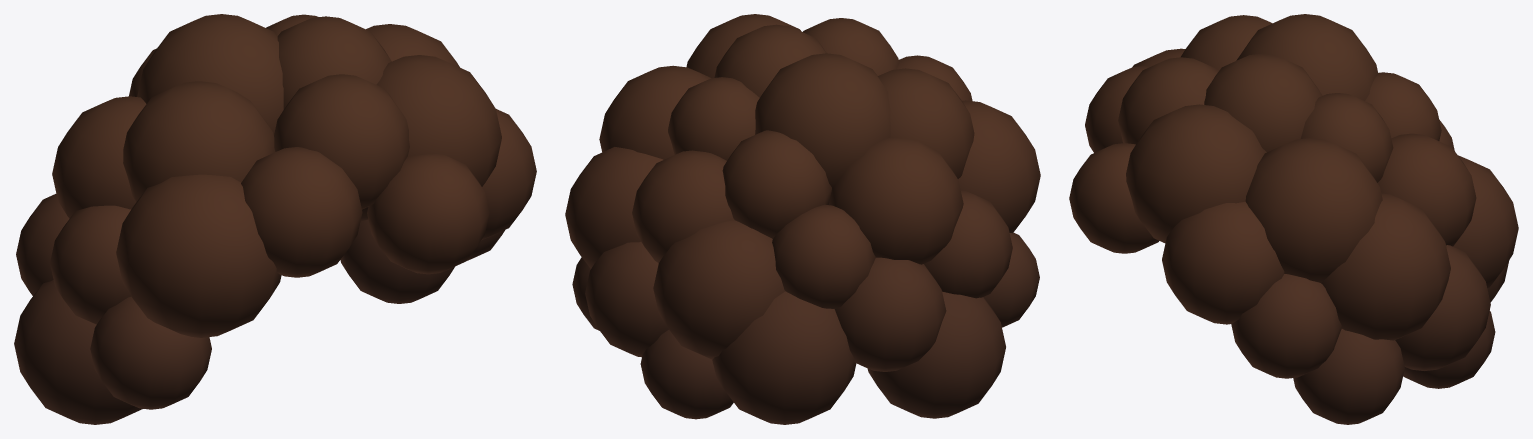
File: hair_curly.glb
The picture shows the model from 3 angles, left to right: view 1: azimuth 30°, elevation 25°; view 2: azimuth 150°, elevation 25°; view 3: azimuth 270°, elevation 25°; orthographic projection. The views are drawn at different scales.
Visible parts, largest first — view 1: Hair; view 2: Hair; view 3: Hair.
Boxes of the visible parts, box(x1,y1,x2,y2) form: Hair: box(14, 14, 536, 424); Hair: box(565, 14, 1040, 424); Hair: box(1069, 14, 1518, 424).
Bounding box in the file's own units: 2.67 × 1.99 × 2.45.
